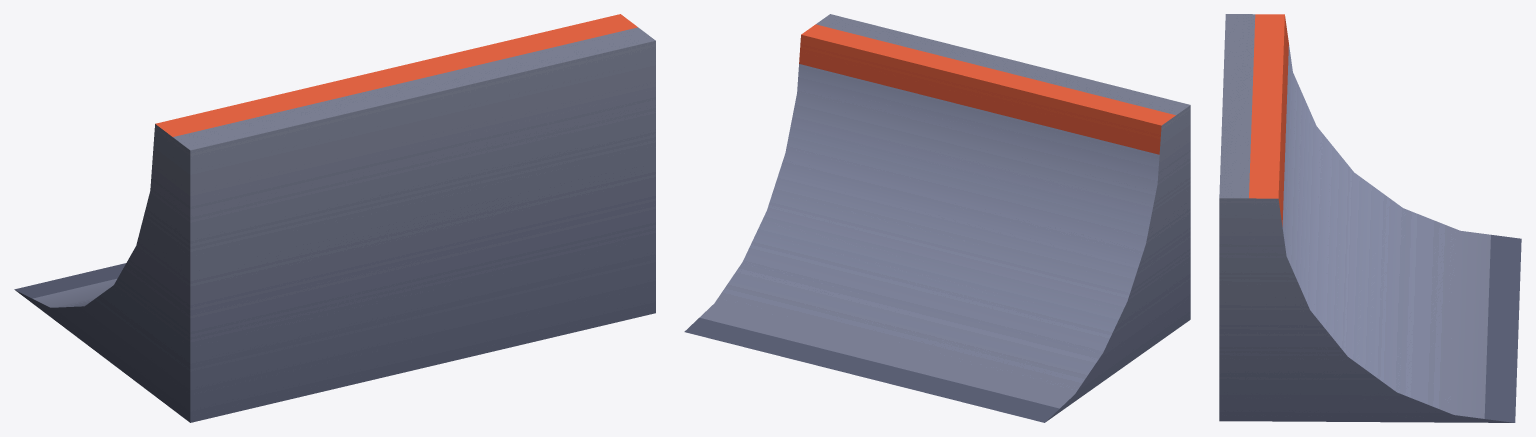
File: bowl-side.001_lev2.glb
3 renders of one model, left to right at view 1: azimuth 30°, elevation 25°; view 2: azimuth 150°, elevation 25°; view 3: azimuth 270°, elevation 25°, orthographic. The views are drawn at different scales.
Parts seen in each view (by area): view 1: bowl-side.001_lev2; view 2: bowl-side.001_lev2; view 3: bowl-side.001_lev2.
Part boxes in pixels (left/top/right/bottom): bowl-side.001_lev2: left=14, top=14, right=655, bottom=422; bowl-side.001_lev2: left=684, top=14, right=1190, bottom=422; bowl-side.001_lev2: left=1219, top=14, right=1521, bottom=422.
Bounding box in the file's own units: 5.08 × 2.84 × 3.49.
Materials: 1 (1 with a texture image).
